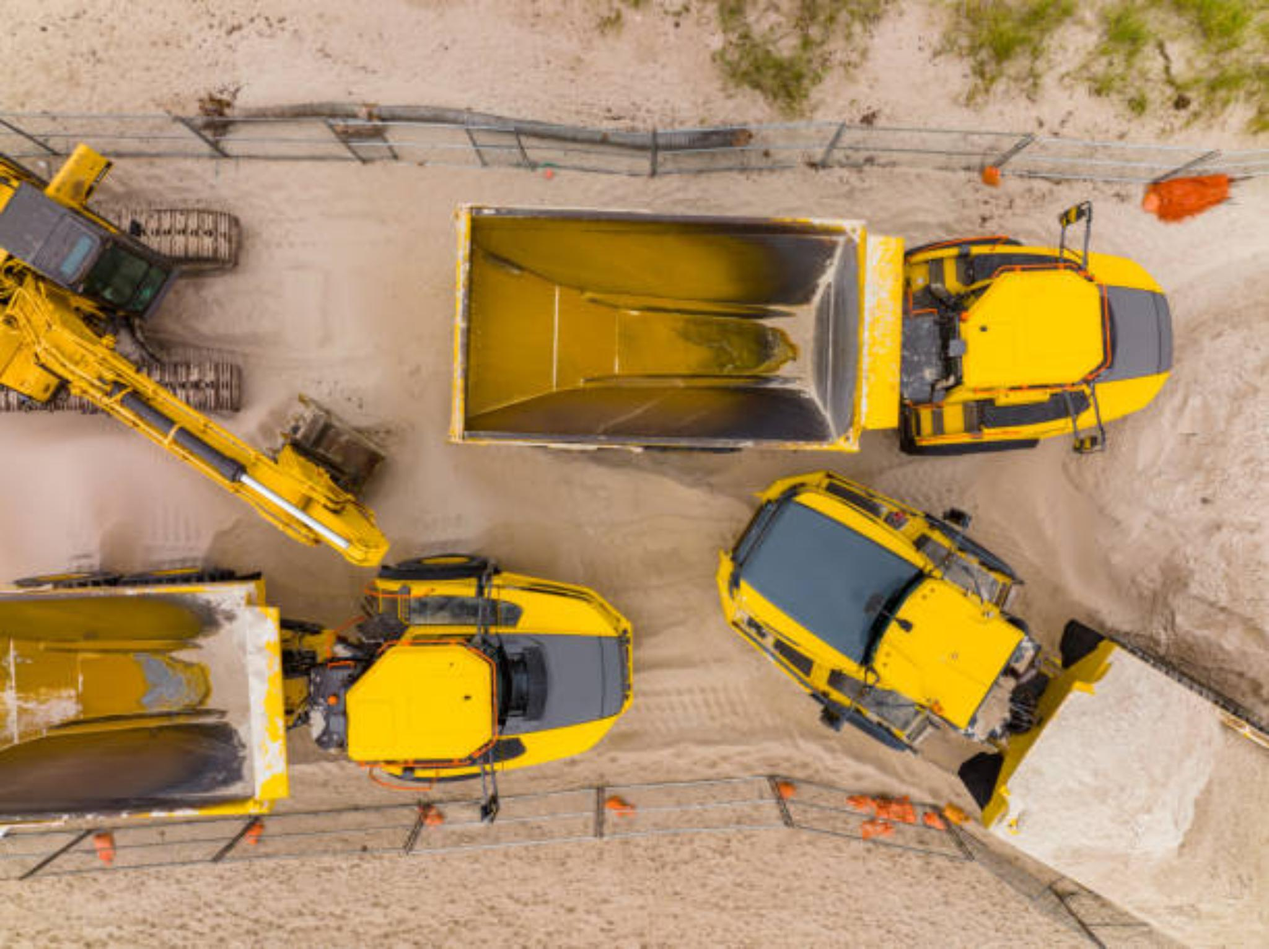excavator: (0, 145, 386, 566)
truck: (715, 475, 1234, 877), (450, 201, 1172, 452), (0, 556, 630, 827)
